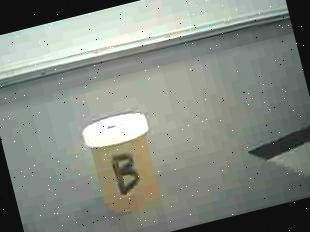Bottle B: (70, 99, 182, 230)
